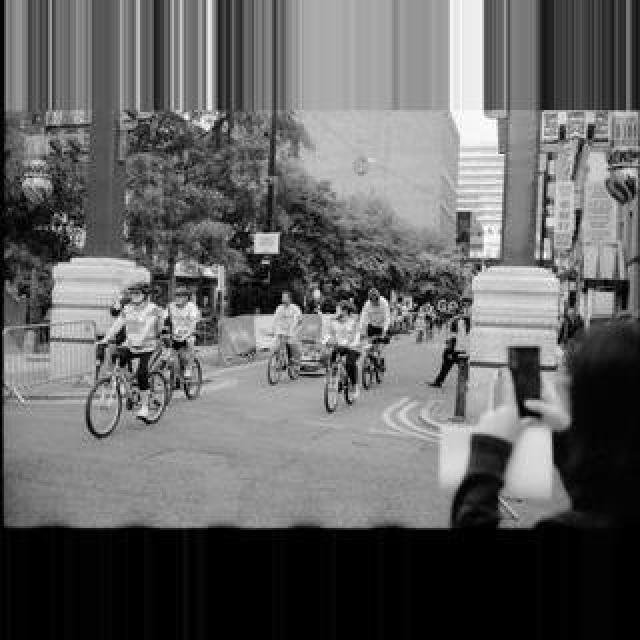MC-Bike: (100, 280, 168, 412), (162, 286, 204, 396), (358, 288, 392, 384), (268, 290, 302, 382)
Person: (85, 339, 171, 439), (159, 335, 203, 401), (324, 345, 360, 413), (266, 332, 302, 384), (360, 333, 388, 389)
